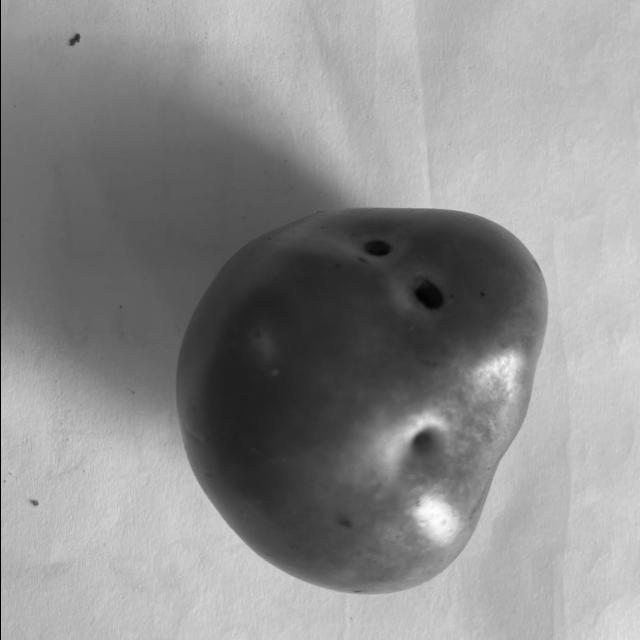fruitworm_bore: (356, 235, 456, 315)
